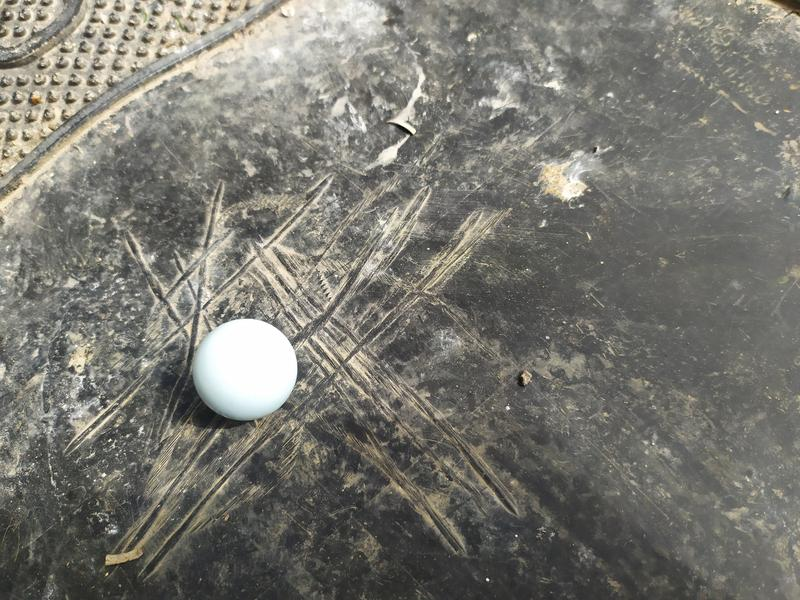Warning: (188, 316, 302, 423)
